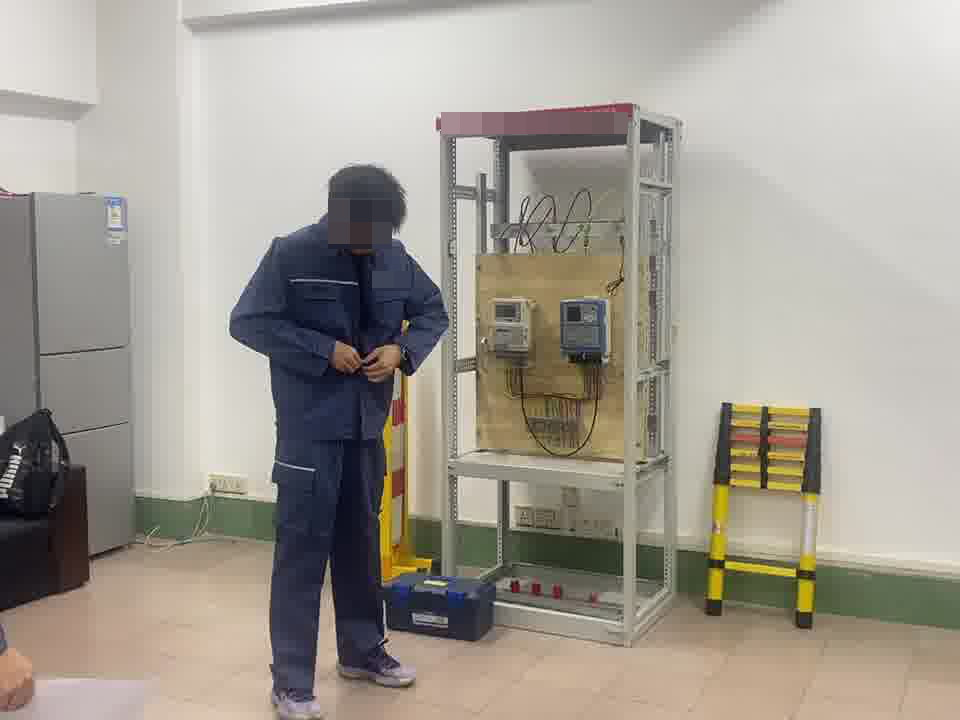downsuit: (265, 446, 395, 691)
hand: (1, 651, 38, 715), (360, 343, 402, 386), (330, 338, 362, 378)
person: (226, 156, 455, 720)
unhalt: (326, 161, 409, 254)
upsuit: (228, 213, 448, 442)
wrongsuit: (344, 254, 381, 441)
